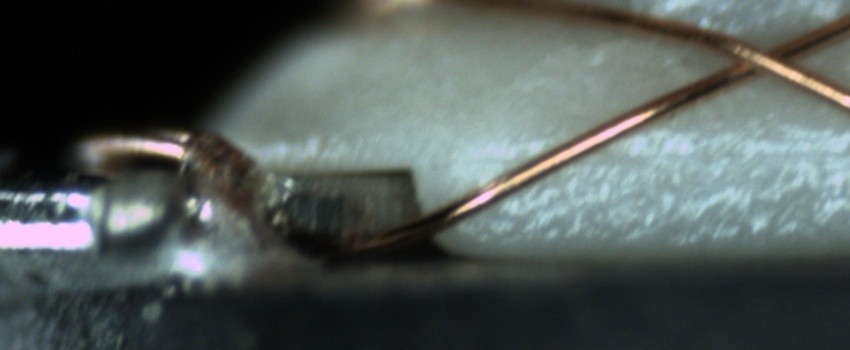CL: (717, 28, 824, 88)
DL: (467, 124, 849, 185)
TE: (65, 114, 260, 184)
